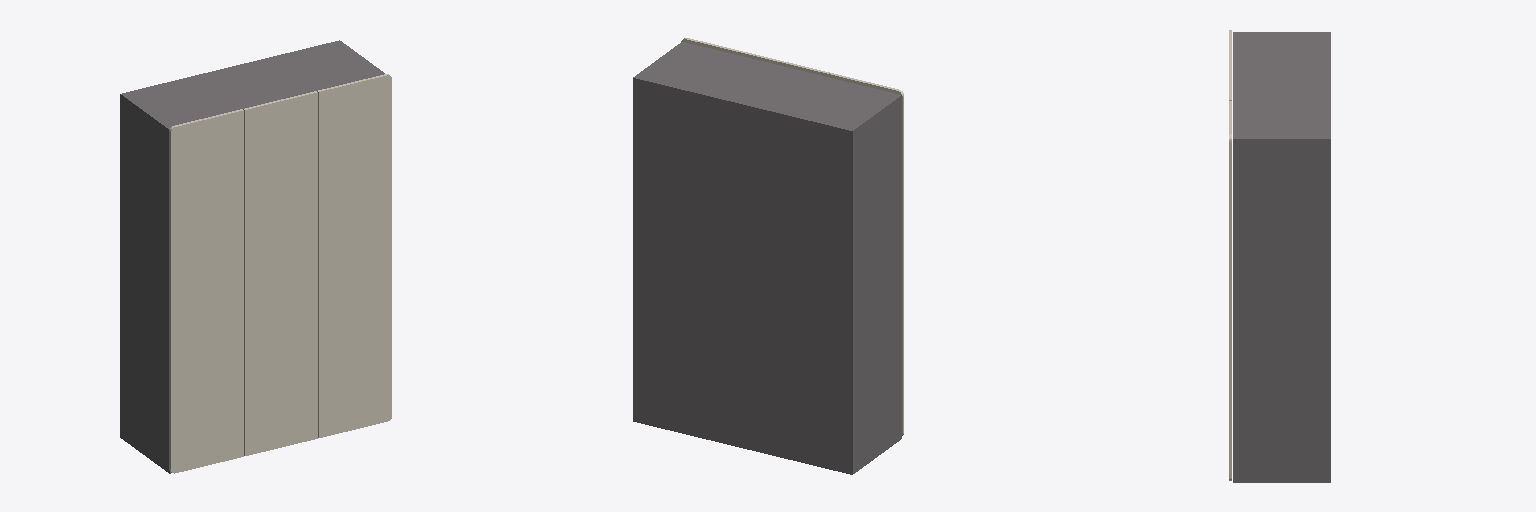
The model's file is 2pir_szafa_3d.obj.
3 views of the same model, side by side, from view 1: azimuth 30°, elevation 25°; view 2: azimuth 150°, elevation 25°; view 3: azimuth 270°, elevation 25° (orthographic).
Parts seen in each view (by area): view 1: Rectangle10, Rectangle11; view 2: Rectangle11, Rectangle10; view 3: Rectangle11, Rectangle10.
Boxes of the visible parts, <box> form: Rectangle10: <box>169,74,391,473</box>; Rectangle11: <box>120,40,384,473</box>; Rectangle11: <box>633,42,901,474</box>; Rectangle10: <box>681,38,903,435</box>; Rectangle11: <box>1233,32,1330,482</box>; Rectangle10: <box>1229,30,1231,480</box>.
Bounding box in the file's own units: 145 × 217 × 58.04.